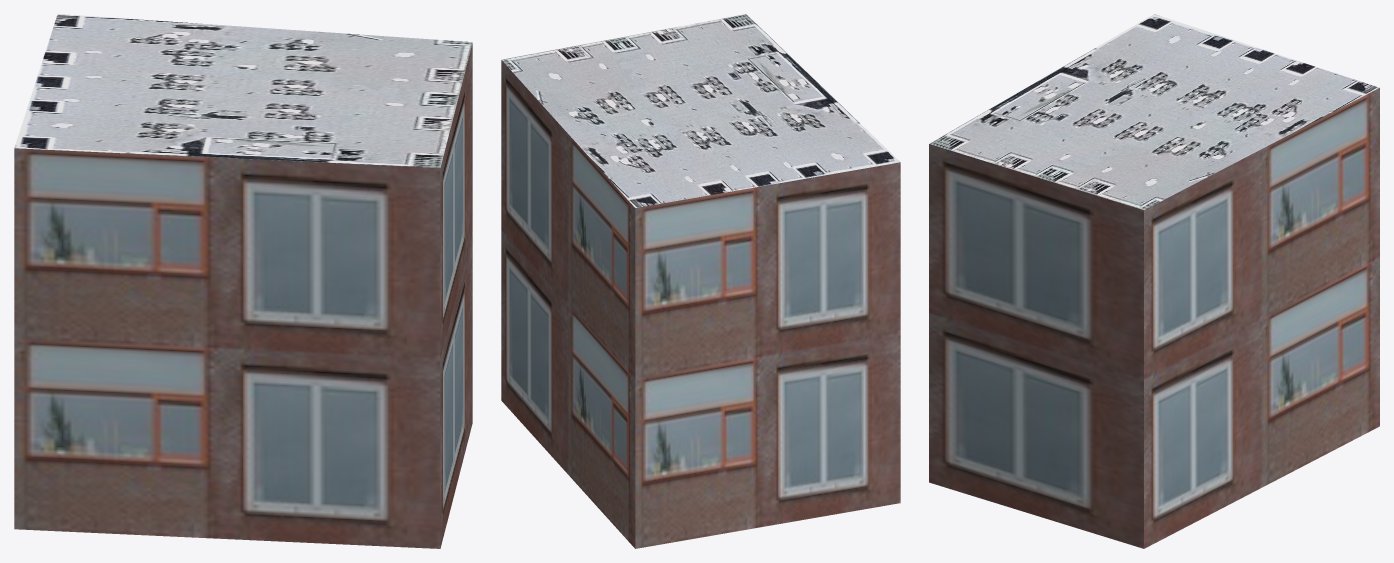
File: ResTex__849.fbx
3 views of the same model, side by side, from view 1: azimuth 30°, elevation 25°; view 2: azimuth 150°, elevation 25°; view 3: azimuth 270°, elevation 25° (orthographic). The views are drawn at different scales.
Visible parts, largest first — view 1: CityEngineMaterial_19_m, CityEngineMaterial_15_m; view 2: CityEngineMaterial_19_m, CityEngineMaterial_15_m; view 3: CityEngineMaterial_19_m, CityEngineMaterial_15_m.
Part boxes in pixels (bbox=[...]): CityEngineMaterial_19_m: bbox=[14, 43, 472, 548]; CityEngineMaterial_15_m: bbox=[14, 14, 472, 167]; CityEngineMaterial_19_m: bbox=[501, 60, 900, 548]; CityEngineMaterial_15_m: bbox=[501, 14, 900, 207]; CityEngineMaterial_19_m: bbox=[929, 88, 1379, 548]; CityEngineMaterial_15_m: bbox=[929, 14, 1379, 209].
Bounding box in the file's own units: 7.46 × 6 × 7.24.
Materials: 2 (2 with a texture image).
